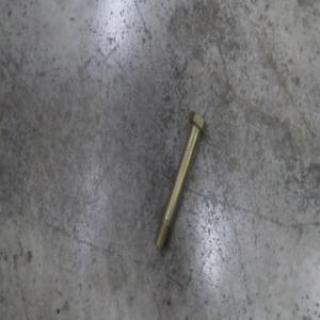Bolttrack_idkeyframe: (154, 110, 208, 252)
